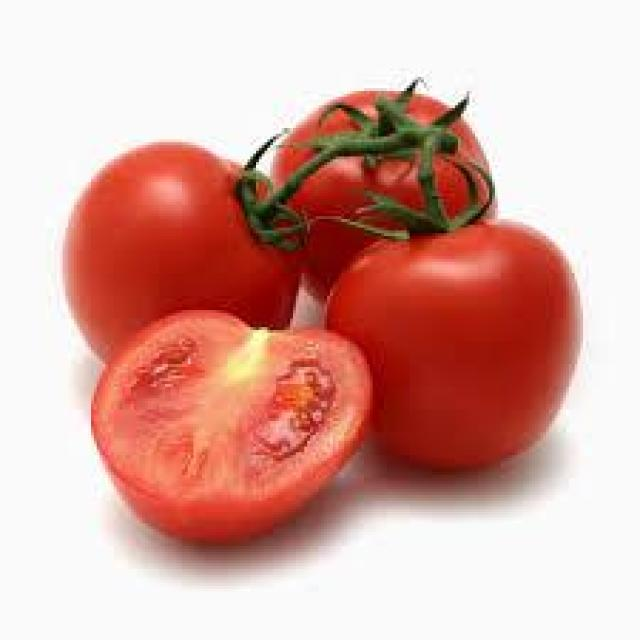organic: (60, 80, 583, 543)
